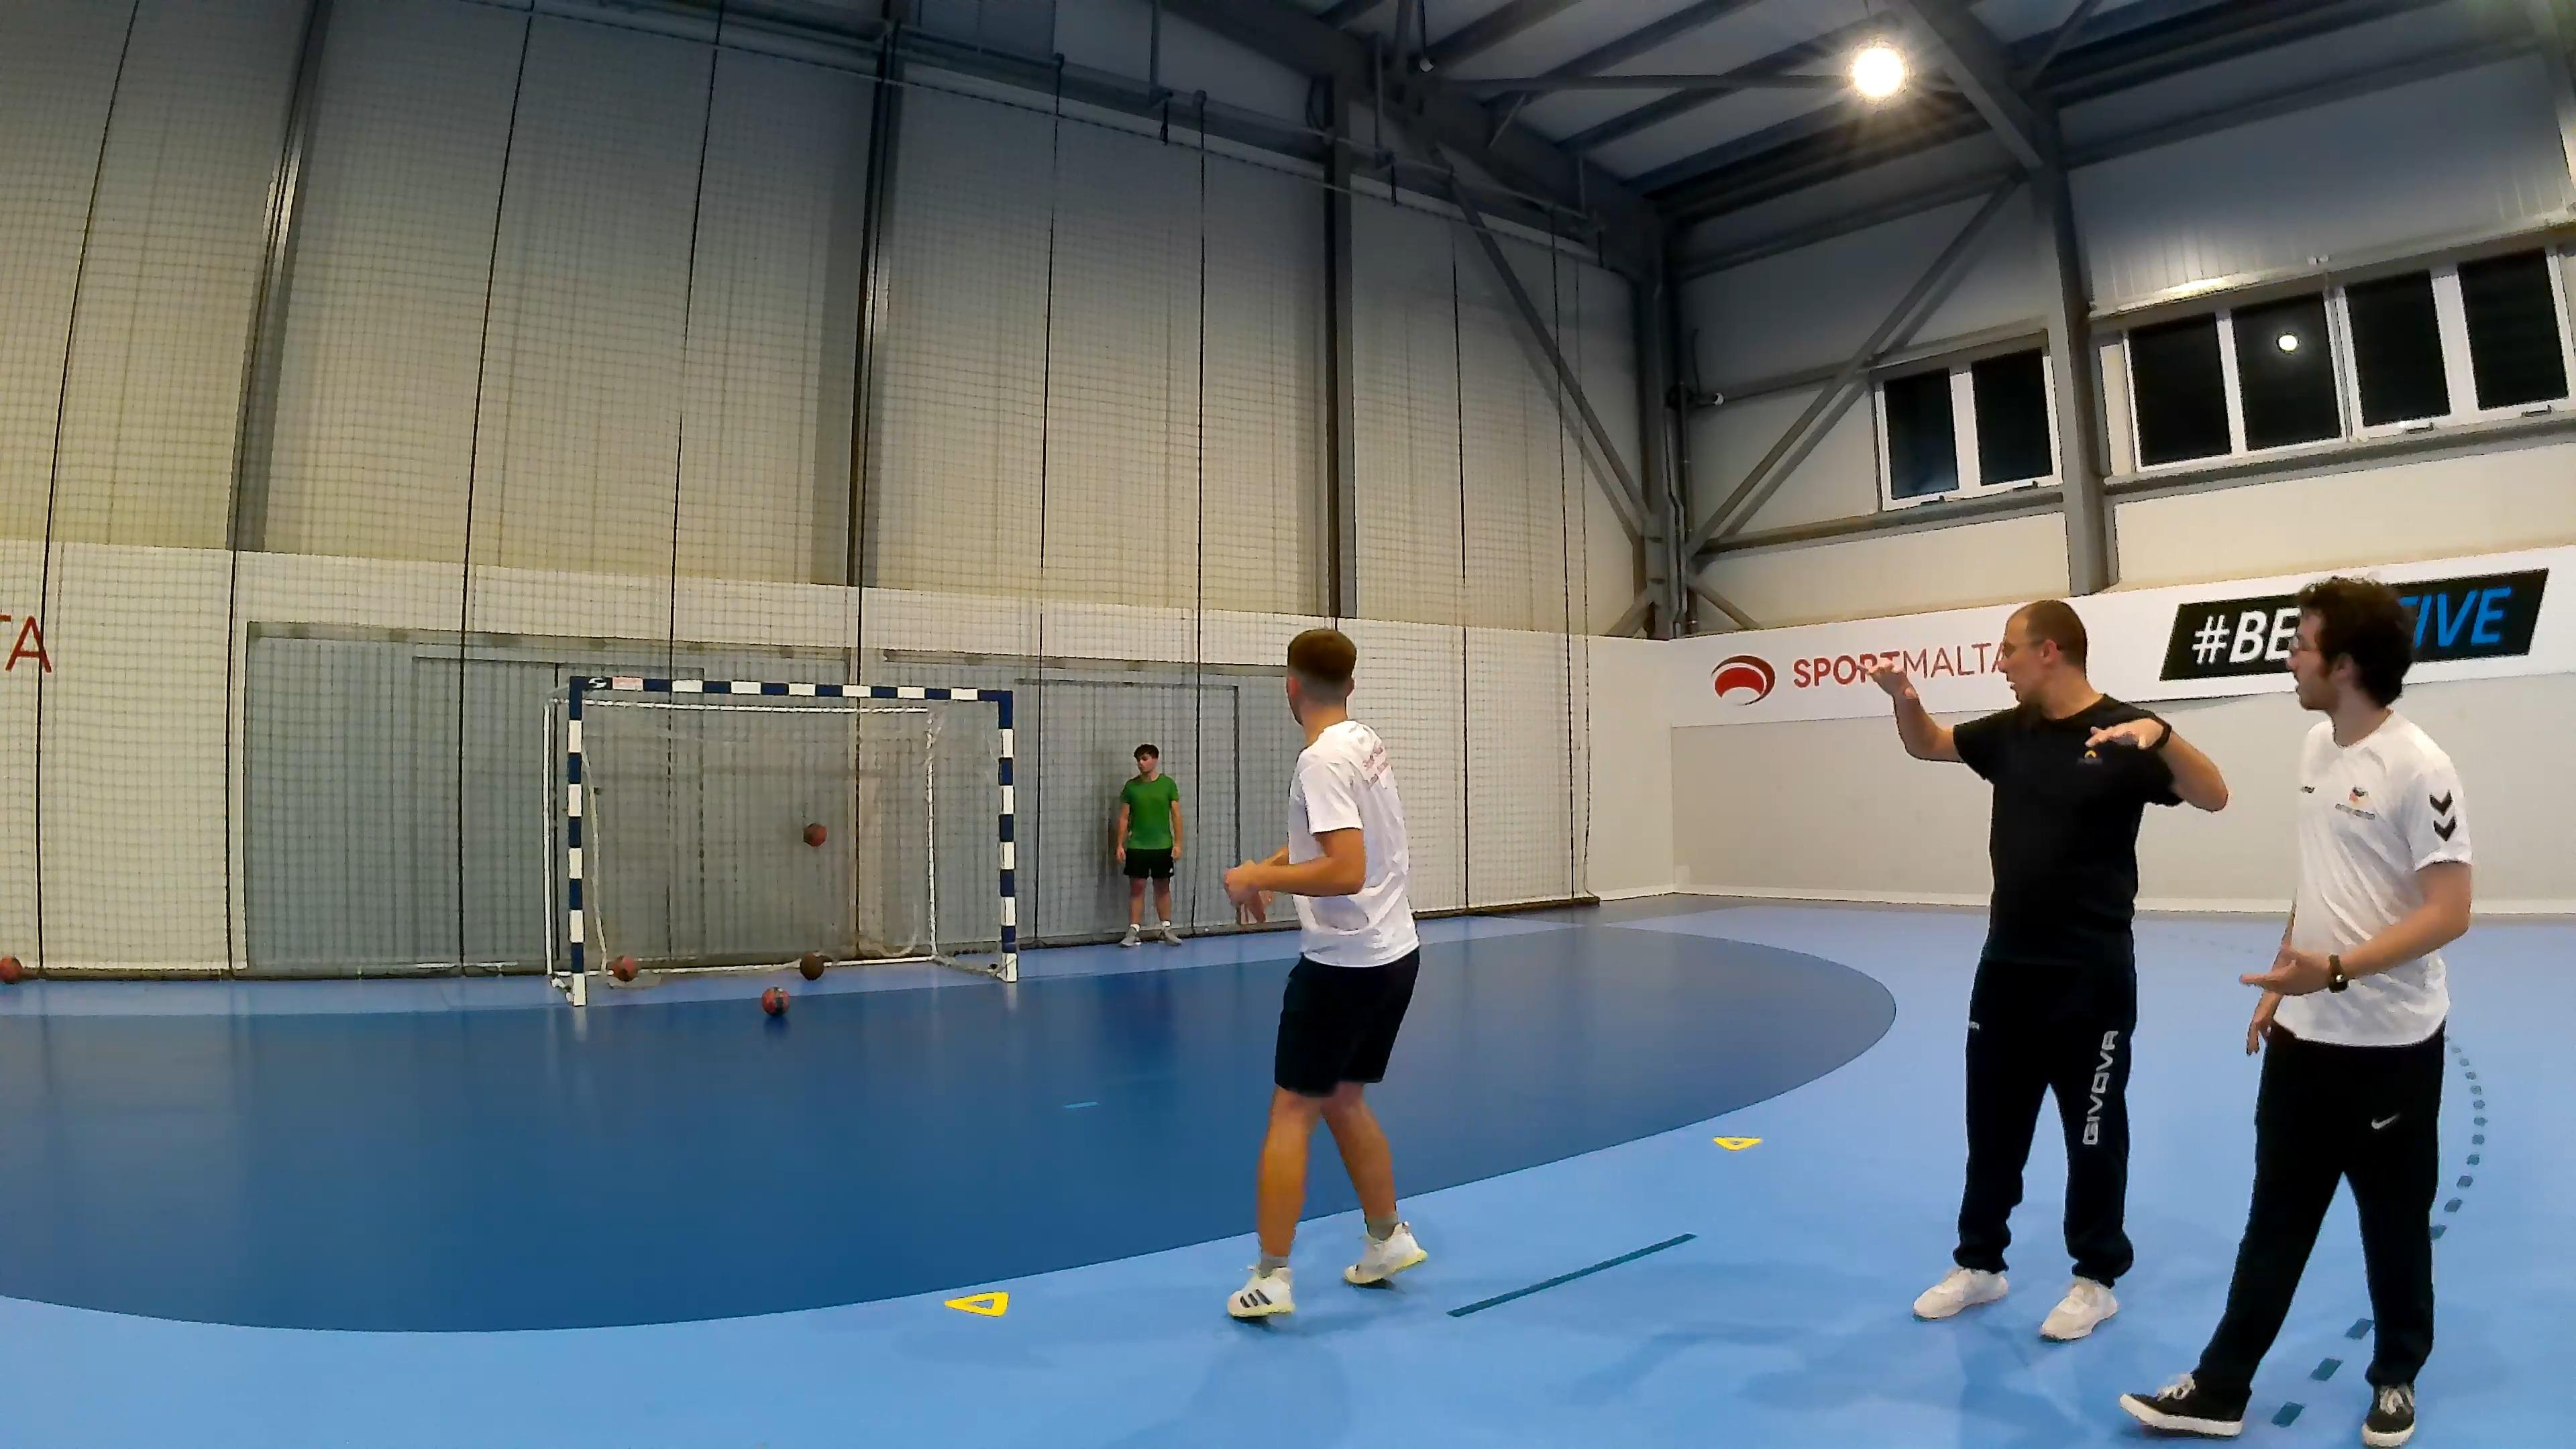handball: (607, 954, 637, 982), (761, 985, 787, 1016), (798, 950, 824, 980), (801, 821, 826, 846)
